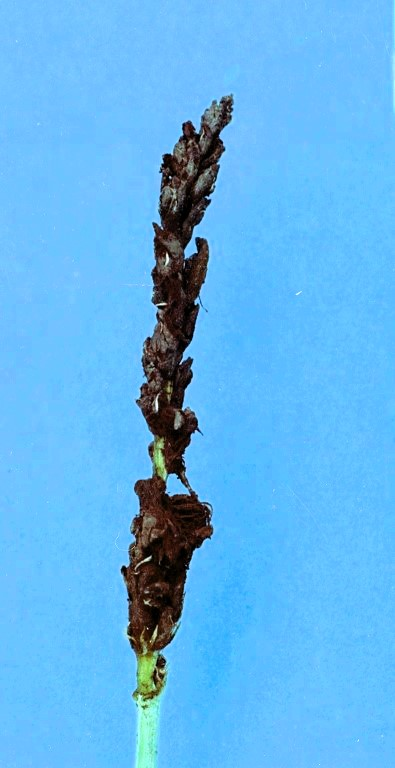Wheat Loose Smut: (109, 147, 244, 634)
